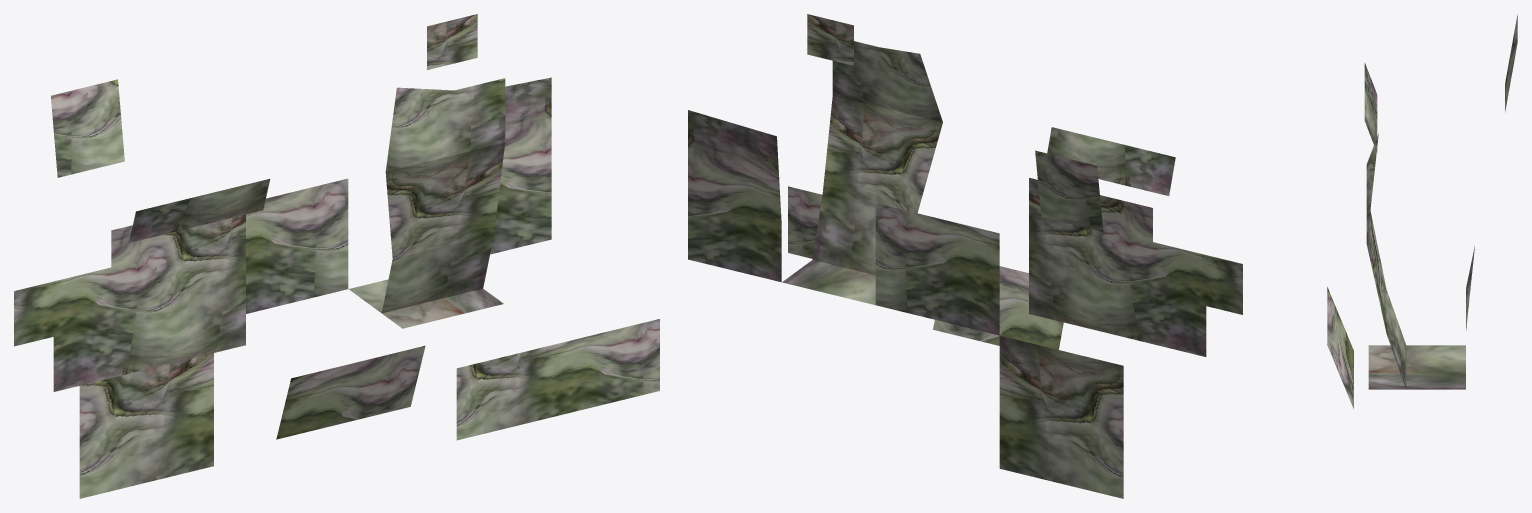
Rendered from MarbleBlock_Back.gltf.
3 renders of one model, left to right at view 1: azimuth 30°, elevation 25°; view 2: azimuth 150°, elevation 25°; view 3: azimuth 270°, elevation 25°, orthographic. The views are drawn at different scales.
Visible parts, largest first — view 1: MarbleBlock_Back; view 2: MarbleBlock_Back; view 3: MarbleBlock_Back.
Part boxes in pixels (x1=…): MarbleBlock_Back: x1=14, y1=14, x2=659, y2=498; MarbleBlock_Back: x1=688, y1=14, x2=1242, y2=498; MarbleBlock_Back: x1=1327, y1=14, x2=1517, y2=408.
Bounding box in the file's own units: 25.39 × 17.68 × 10.59.
1 material, 1 textured.
